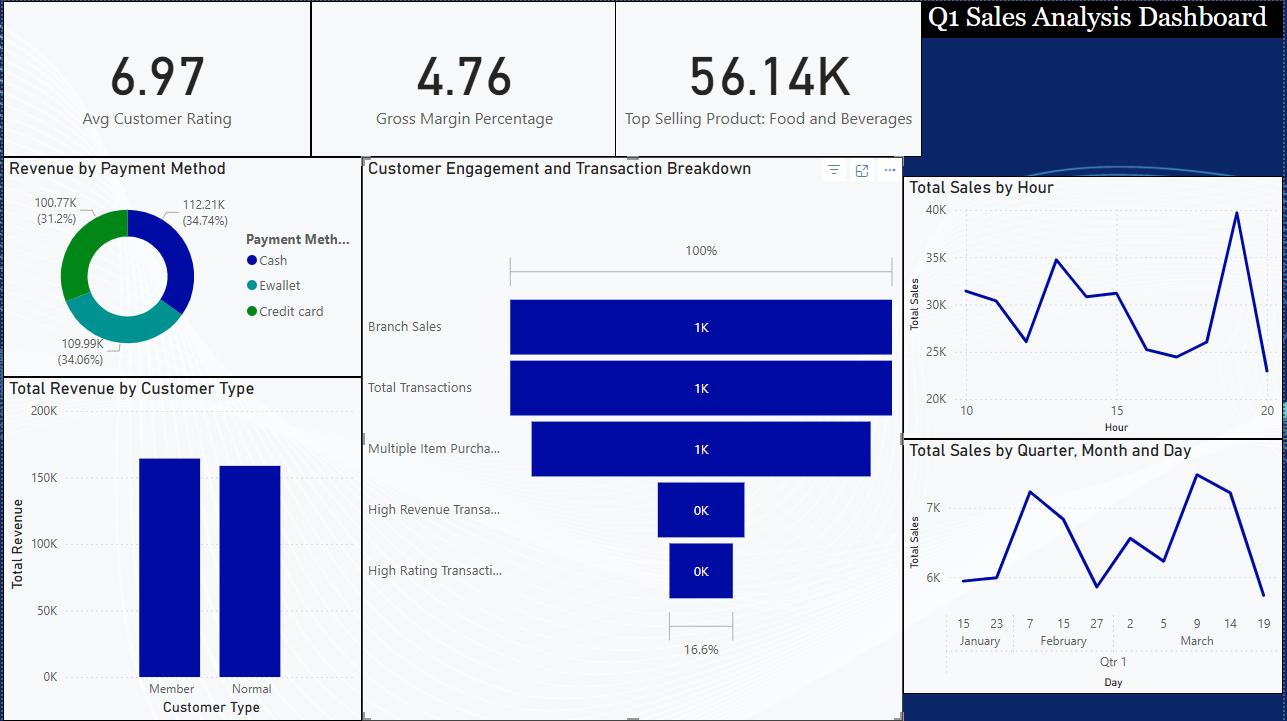

This screenshot's page, from the dashboard's own definition file:
{"tool":"powerbi","page":{"name":"Page 1","canvas":[1280,720],"ordinal":0},"visuals":[{"type":"lineChart","fields":{"Y":["Sum(Query2.TotalSales)"],"Category":["Query2.Date.Variation.Date Hierarchy.Quarter","Query2.Date.Variation.Date Hierarchy.Month","Query2.Date.Variation.Date Hierarchy.Day"]},"box":[899.6,438.1,380.6,255],"z":0},{"type":"lineChart","fields":{"Y":["Sum(Query3.Total_Sales)"],"Category":["Query3.Hour"]},"box":[899.6,175.1,380.6,263],"z":1000},{"type":"card","fields":{"Values":["supermarket_sales - Sheet1.Gross Margin Percentage"]},"box":[308,0,307,156],"z":2000},{"type":"card","fields":{"Values":["Sum(Query4.Average_Customer_Rating)"]},"box":[0,0,307.9,156.2],"z":3000},{"type":"card","fields":{"Values":["Sum(Query5.Total_Sales)"]},"box":[612,0,307,156],"z":4000},{"type":"donutChart","fields":{"Category":["Query7.Payment_Method"],"Y":["Sum(Query7.Revenue)"]},"box":[0,156.2,359.1,220],"z":5000},{"type":"funnel","title":"Customer Engagement and Transaction Breakdown","fields":{"Category":["Query8.Stage"],"Y":["Sum(Query8.Value)"]},"box":[359.1,156.2,540.4,563.8],"z":6000},{"type":"textbox","title":"Q1 Sales Analysis Dashboard","box":[919.3,0,360.9,36.8],"z":7000},{"type":"columnChart","fields":{"Category":["Query10.Customer_type"],"Y":["Sum(Query10.Total_Revenue)"]},"box":[0,376,359,344],"z":8000}]}

Visuals, with their boxes in screenshot pixels (x1, y1, x2, y2), scaled from the page's 1280x720 canvas onto the 1287x721 screenshot:
lineChart - Sum(Query2.TotalSales) x Query2.Date.Variation.Date Hierarchy.Quarter: [left=905, top=439, right=1286, bottom=694]
lineChart - Sum(Query3.Total_Sales) x Query3.Hour: [left=905, top=175, right=1286, bottom=439]
card - supermarket_sales - Sheet1.Gross Margin Percentage: [left=310, top=0, right=618, bottom=156]
card - Sum(Query4.Average_Customer_Rating): [left=0, top=0, right=310, bottom=156]
card - Sum(Query5.Total_Sales): [left=615, top=0, right=924, bottom=156]
donutChart - Query7.Payment_Method x Sum(Query7.Revenue): [left=0, top=156, right=361, bottom=377]
"Customer Engagement and Transaction Breakdown" funnel: [left=361, top=156, right=904, bottom=720]
"Q1 Sales Analysis Dashboard" textbox: [left=924, top=0, right=1286, bottom=37]
columnChart - Query10.Customer_type x Sum(Query10.Total_Revenue): [left=0, top=377, right=361, bottom=720]
